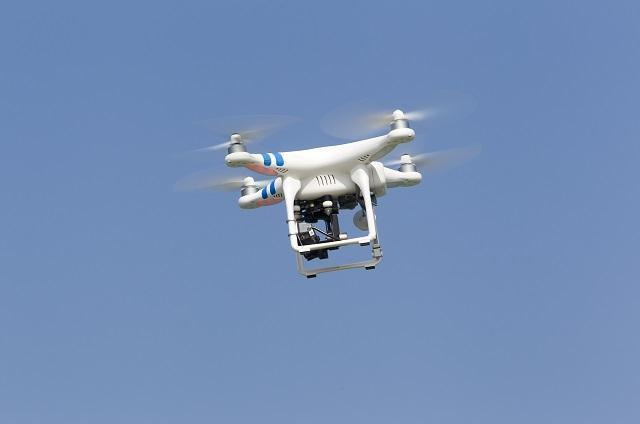UAV: (226, 105, 427, 279)
